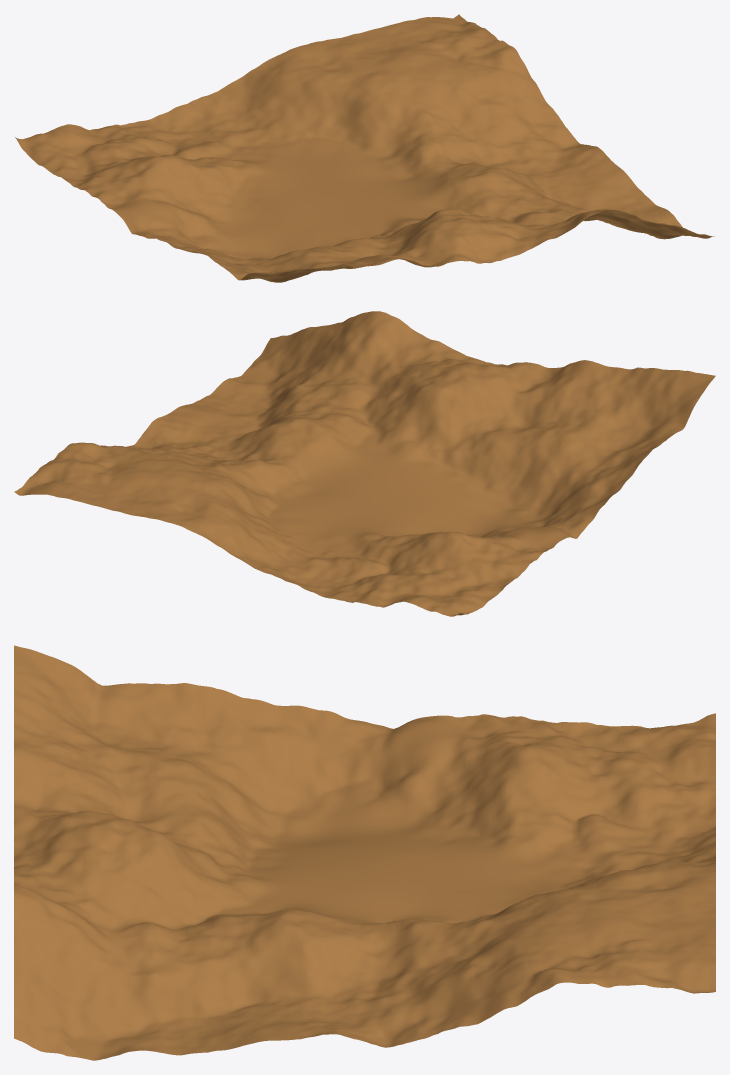
The model's file is mars playground101 1.fbx.
3 views of the same model, one above another, from view 1: azimuth 30°, elevation 25°; view 2: azimuth 150°, elevation 25°; view 3: azimuth 270°, elevation 25° (orthographic). The views are drawn at different scales.
Parts seen in each view (by area): view 1: Landscape.001; view 2: Landscape.001; view 3: Landscape.001.
Part boxes in pixels (box(x1,y1,x2,y2)): Landscape.001: box(15, 14, 714, 282); Landscape.001: box(14, 311, 715, 616); Landscape.001: box(14, 645, 715, 1060).
Size of the model in its own units: 572 by 107 by 572.
